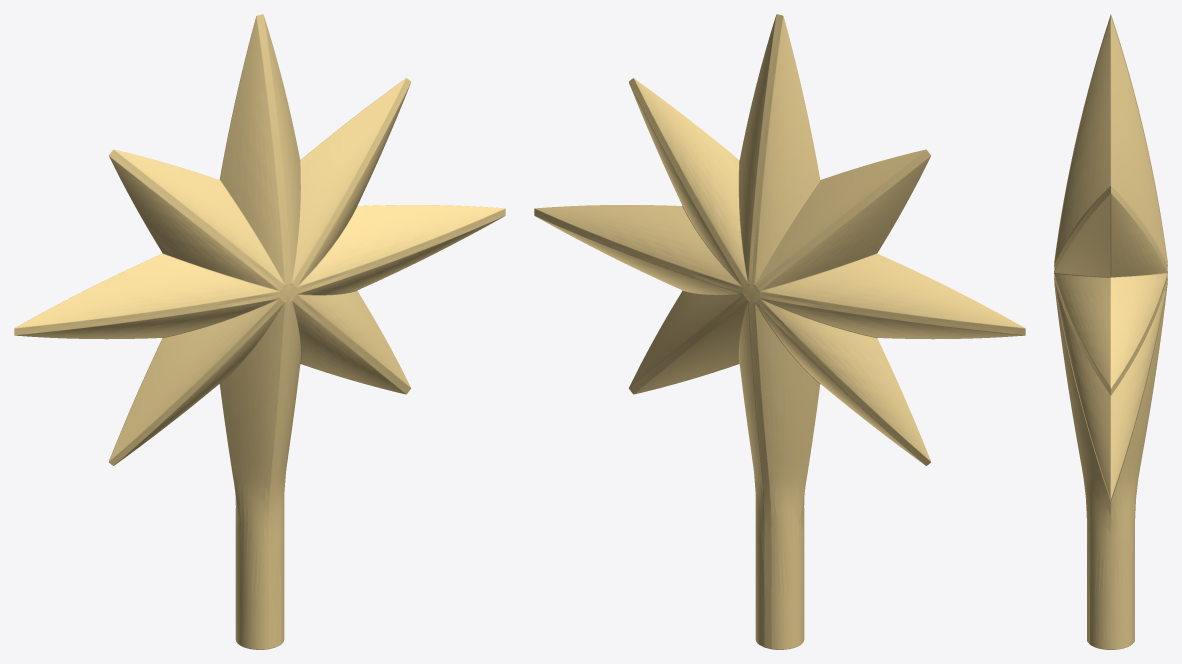
Rendered from gold_glossy.glb.
3 views of the same model, side by side, from view 1: azimuth 30°, elevation 25°; view 2: azimuth 150°, elevation 25°; view 3: azimuth 270°, elevation 25° (orthographic).
Visible parts, largest first — view 1: big_star; view 2: big_star; view 3: big_star.
Part boxes in pixels (box(x1,y1,x2,y2)): big_star: box(14, 14, 505, 649); big_star: box(534, 14, 1025, 649); big_star: box(1054, 14, 1167, 649).
Bounding box in the file's own units: 0.3496 × 0.4248 × 0.0701.
